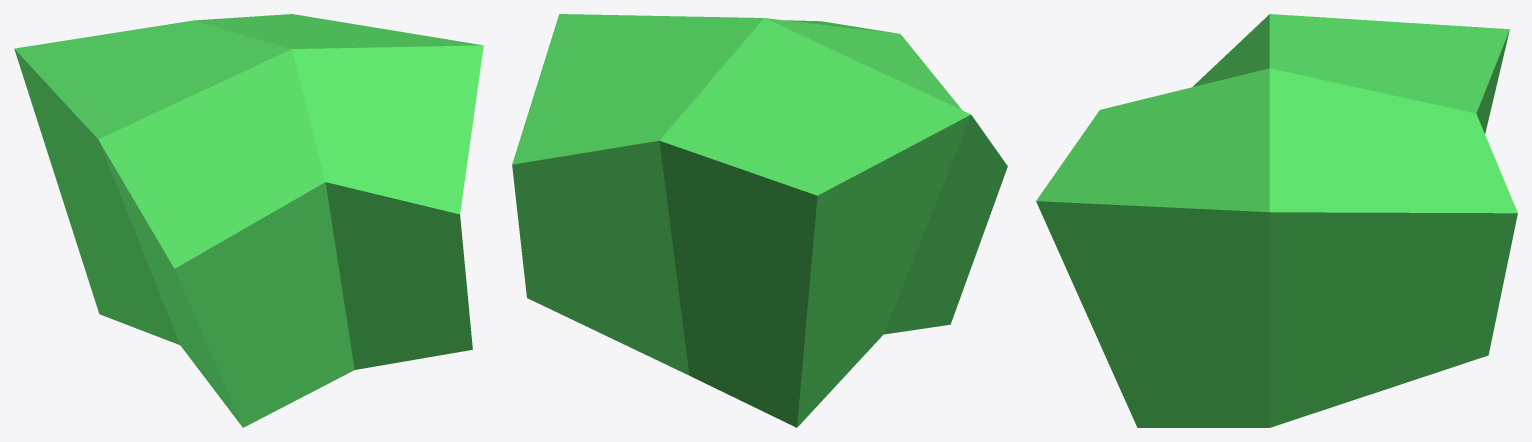
The model's file is IdeaGeo1.fbx.
3 renders of one model, left to right at view 1: azimuth 30°, elevation 25°; view 2: azimuth 150°, elevation 25°; view 3: azimuth 270°, elevation 25°, orthographic. The views are drawn at different scales.
Visible parts, largest first — view 1: Cube; view 2: Cube; view 3: Cube.
Boxes of the visible parts, <box> form: Cube: <box>14,14,483,427</box>; Cube: <box>512,14,1007,427</box>; Cube: <box>1036,14,1517,427</box>.
Size of the model in its own units: 95.65 by 72.47 by 98.26.
